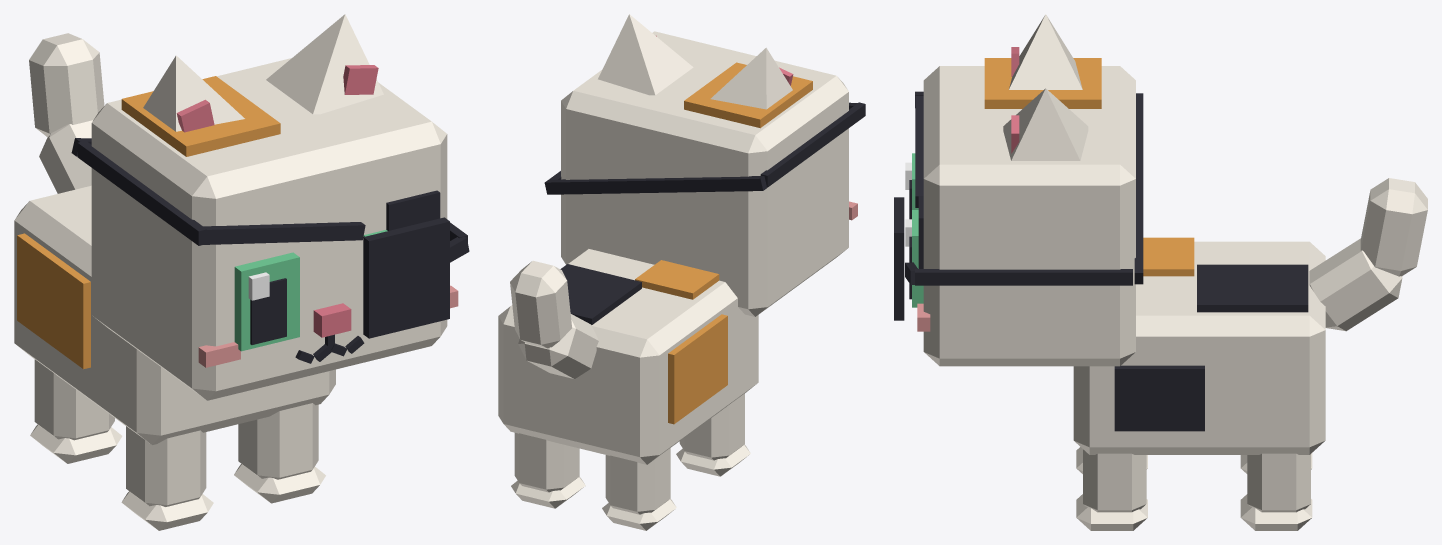
Rendered from CatCafe_Cat_Calico.glb.
3 views of the same model, side by side, from view 1: azimuth 30°, elevation 25°; view 2: azimuth 150°, elevation 25°; view 3: azimuth 270°, elevation 25° (orthographic). The views are drawn at different scales.
Visible parts, largest first — view 1: CatCafe_Cat_Calico_Head, CatCafe_Cat_Calico_Body, CatCafe_Cat_Calico_Prop, CatCafe_Cat_Calico_Tail, CatCafe_Cat_Calico_LegF2, CatCafe_Cat_Calico_LegF1, CatCafe_Cat_Calico_EarL, CatCafe_Cat_Calico_Eye2, CatCafe_Cat_Calico_LegB2, CatCafe_Cat_Calico_EarR; view 2: CatCafe_Cat_Calico_Head, CatCafe_Cat_Calico_Body, CatCafe_Cat_Calico_Tail, CatCafe_Cat_Calico_Prop, CatCafe_Cat_Calico_LegB2, CatCafe_Cat_Calico_EarL, CatCafe_Cat_Calico_LegB1, CatCafe_Cat_Calico_LegF2, CatCafe_Cat_Calico_EarR; view 3: CatCafe_Cat_Calico_Head, CatCafe_Cat_Calico_Body, CatCafe_Cat_Calico_Tail, CatCafe_Cat_Calico_Prop, CatCafe_Cat_Calico_LegF1, CatCafe_Cat_Calico_LegB1, CatCafe_Cat_Calico_EarL, CatCafe_Cat_Calico_EarR, CatCafe_Cat_Calico_Eye1.
Part boxes in pixels (left/top/right/bottom): CatCafe_Cat_Calico_Head: left=91, top=58, right=458, bottom=400; CatCafe_Cat_Calico_Body: left=14, top=185, right=335, bottom=444; CatCafe_Cat_Calico_Prop: left=71, top=138, right=469, bottom=338; CatCafe_Cat_Calico_Tail: left=29, top=33, right=104, bottom=193; CatCafe_Cat_Calico_LegF2: left=121, top=426, right=213, bottom=530; CatCafe_Cat_Calico_LegF1: left=234, top=403, right=325, bottom=503; CatCafe_Cat_Calico_EarL: left=266, top=14, right=383, bottom=114; CatCafe_Cat_Calico_Eye2: left=234, top=252, right=299, bottom=351; CatCafe_Cat_Calico_LegB2: left=30, top=359, right=122, bottom=463; CatCafe_Cat_Calico_EarR: left=143, top=55, right=244, bottom=132; CatCafe_Cat_Calico_Head: left=561, top=31, right=857, bottom=316; CatCafe_Cat_Calico_Body: left=498, top=249, right=758, bottom=464; CatCafe_Cat_Calico_Tail: left=510, top=260, right=598, bottom=379; CatCafe_Cat_Calico_Prop: left=544, top=102, right=865, bottom=194; CatCafe_Cat_Calico_LegB2: left=602, top=448, right=676, bottom=530; CatCafe_Cat_Calico_EarL: left=598, top=14, right=693, bottom=95; CatCafe_Cat_Calico_LegB1: left=511, top=433, right=585, bottom=508; CatCafe_Cat_Calico_LegF2: left=676, top=393, right=750, bottom=476; CatCafe_Cat_Calico_EarR: left=710, top=47, right=793, bottom=109; CatCafe_Cat_Calico_Head: left=917, top=58, right=1135, bottom=366; CatCafe_Cat_Calico_Body: left=1073, top=237, right=1325, bottom=454; CatCafe_Cat_Calico_Tail: left=1309, top=178, right=1427, bottom=331; CatCafe_Cat_Calico_Prop: left=894, top=91, right=1143, bottom=320; CatCafe_Cat_Calico_LegF1: left=1076, top=449, right=1147, bottom=530; CatCafe_Cat_Calico_LegB1: left=1240, top=453, right=1312, bottom=530; CatCafe_Cat_Calico_EarL: left=1003, top=88, right=1088, bottom=160; CatCafe_Cat_Calico_EarR: left=1009, top=14, right=1082, bottom=89; CatCafe_Cat_Calico_Eye1: left=905, top=210, right=923, bottom=307.
Size of the model in its own units: 1.06 by 1.86 by 2.01.
1 material, 1 textured.
